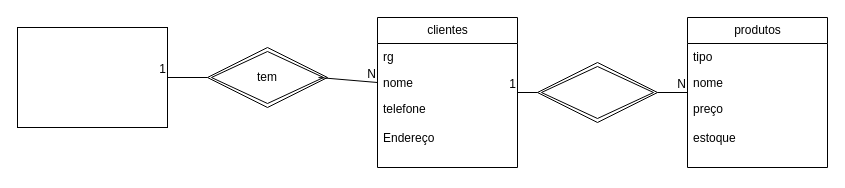
Some shapes in this 845 by 188 pixel diagram are drawn without their labels. The shapes that lost their labels are listed below. From the top down, each one's centre as x and y in pixels, then its label:
At [92,77]: "floricultura".
At [597,92]: "compra".
